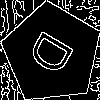D: (26, 28, 83, 83)
